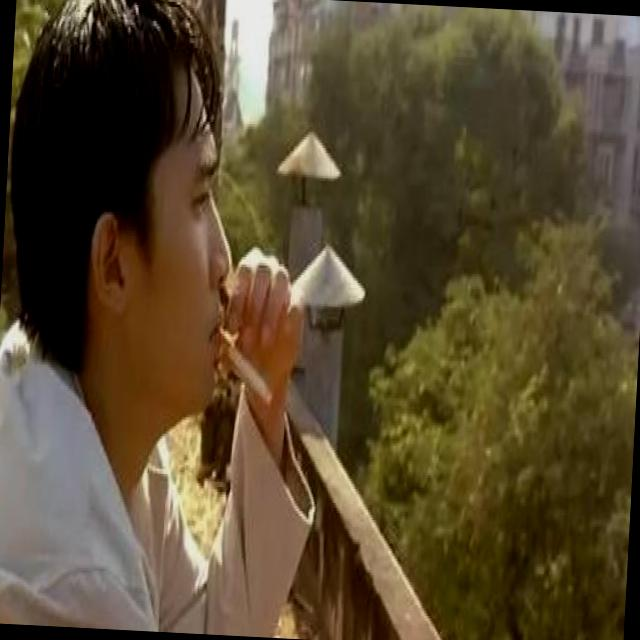smoke: (201, 288, 285, 482)
